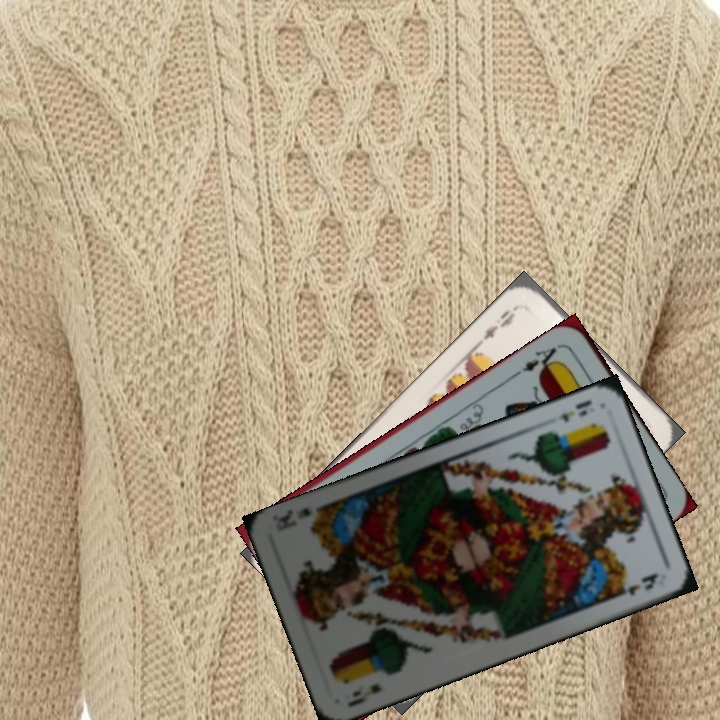E9: (478, 300, 522, 343)
EA: (511, 340, 564, 378)
EK: (542, 396, 594, 426), (344, 680, 384, 710)
